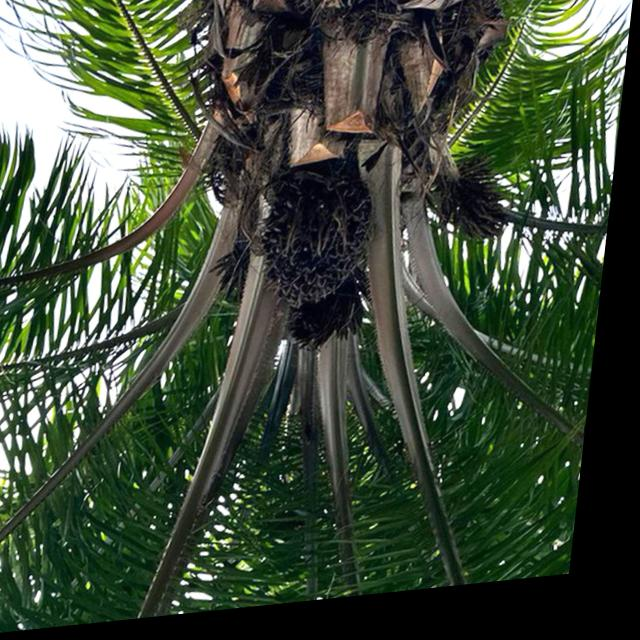ripe: (230, 156, 417, 340)
